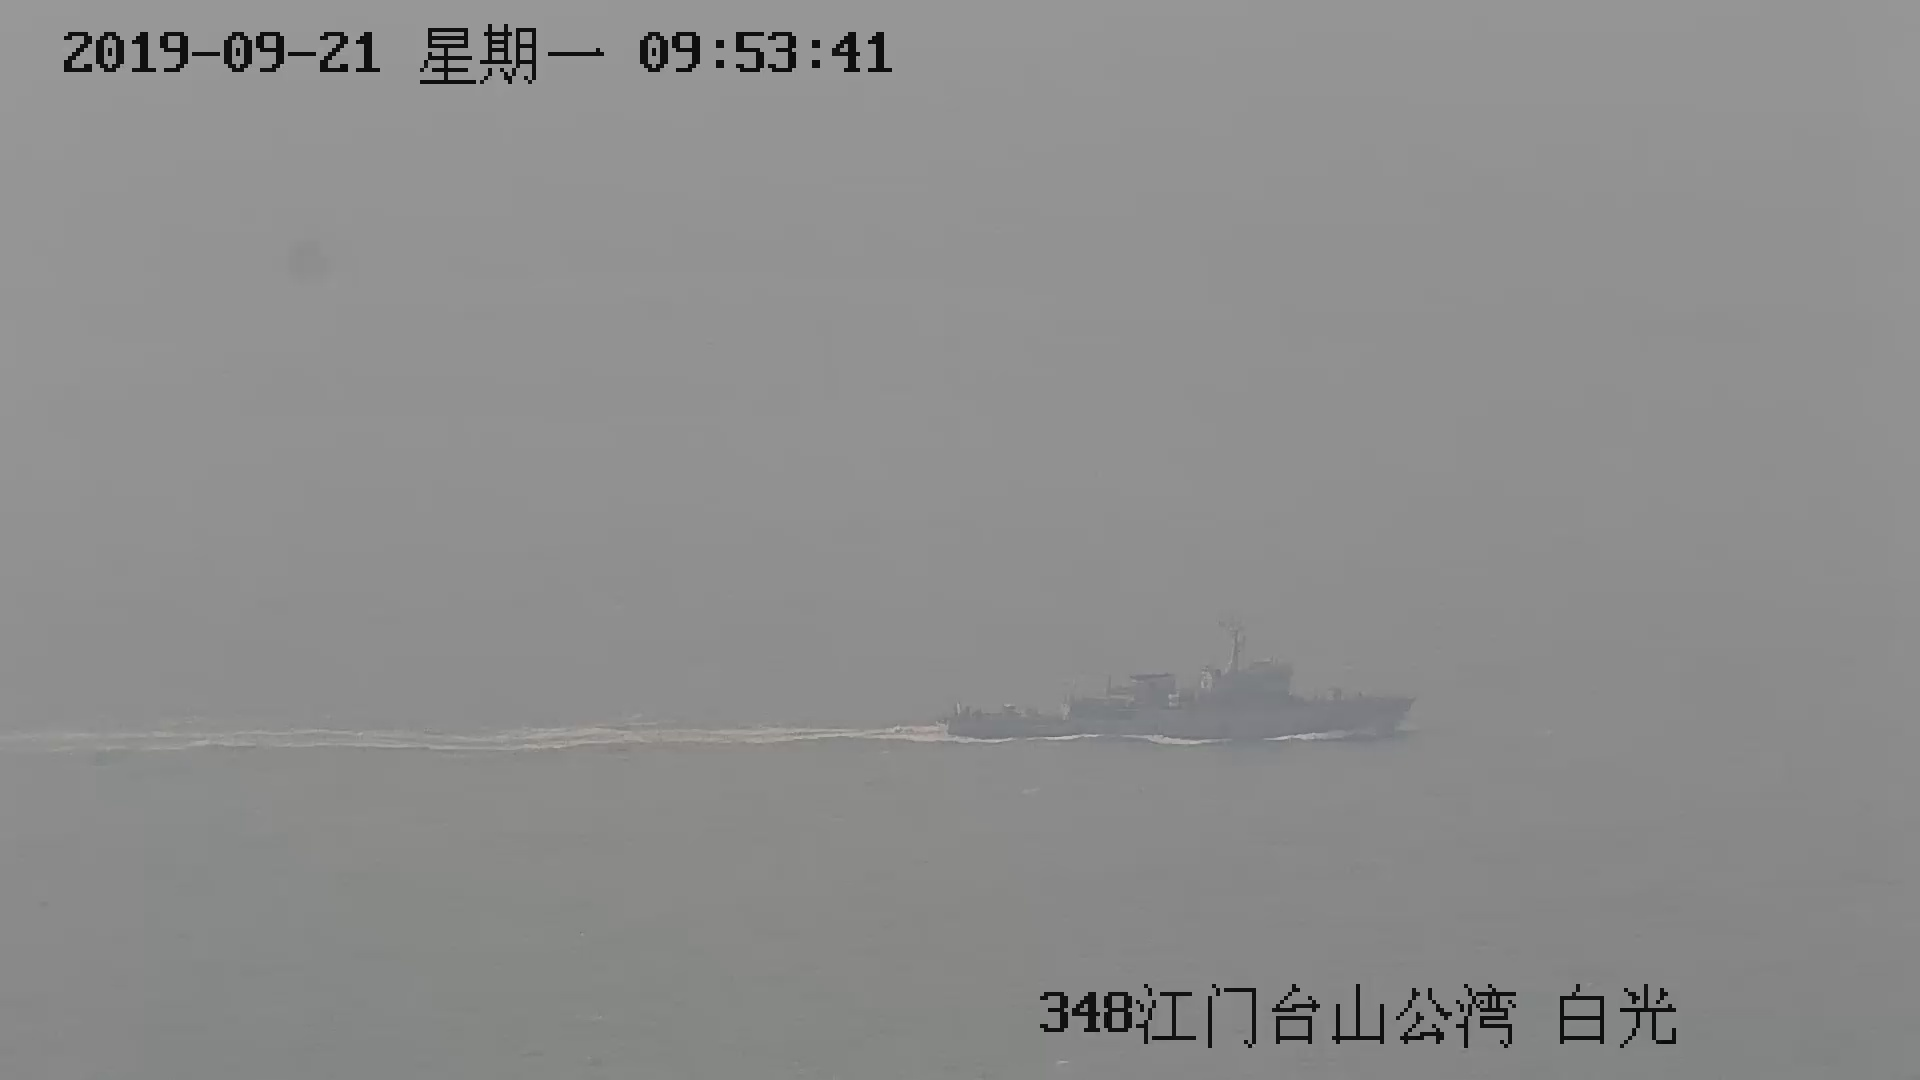ship: (932, 622, 1419, 746)
